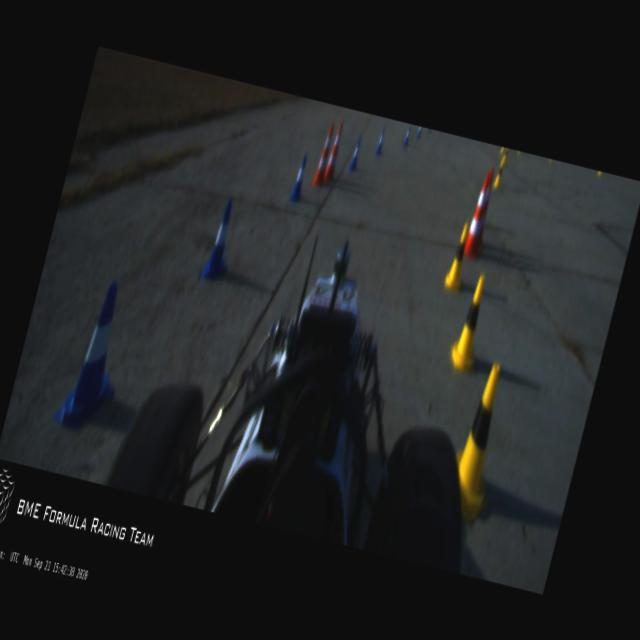blue_cone: (51, 274, 141, 436), (198, 194, 245, 286), (288, 152, 311, 202), (348, 134, 363, 172), (373, 126, 386, 156), (402, 124, 412, 149), (414, 126, 422, 140)
large_orange_cone: (470, 166, 500, 253), (462, 170, 492, 256), (309, 119, 339, 188), (322, 119, 347, 183)
yellow_cone: (439, 358, 517, 526), (444, 270, 496, 374), (441, 218, 477, 294), (491, 156, 507, 190), (502, 148, 509, 164)
